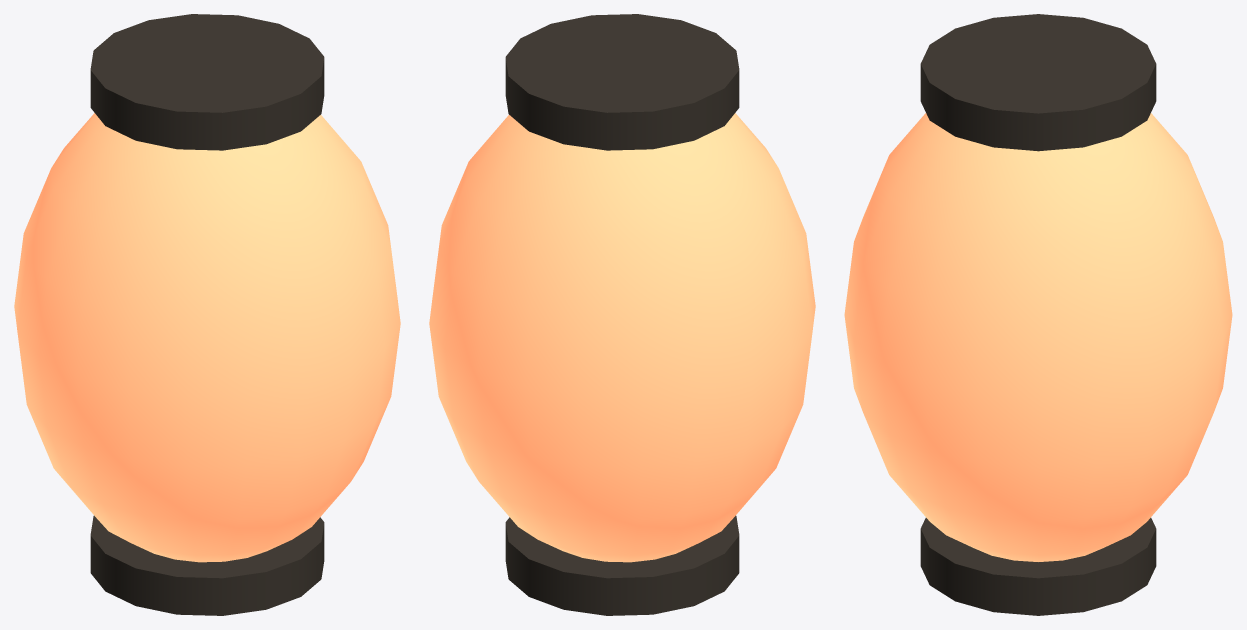
The model's file is lantern.glb.
The picture shows the model from 3 angles, left to right: view 1: azimuth 30°, elevation 25°; view 2: azimuth 150°, elevation 25°; view 3: azimuth 270°, elevation 25°; orthographic projection.
Visible parts, largest first — view 1: Light_Lantern, Caps; view 2: Light_Lantern, Caps; view 3: Light_Lantern, Caps.
Boxes of the visible parts, left/top/right/bottom form: Light_Lantern: left=14, top=113, right=400, bottom=562; Caps: left=90, top=14, right=324, bottom=615; Light_Lantern: left=429, top=113, right=815, bottom=562; Caps: left=505, top=14, right=739, bottom=615; Light_Lantern: left=844, top=113, right=1232, bottom=561; Caps: left=920, top=14, right=1156, bottom=615.
Size of the model in its own units: 0.56 by 0.8 by 0.56.
